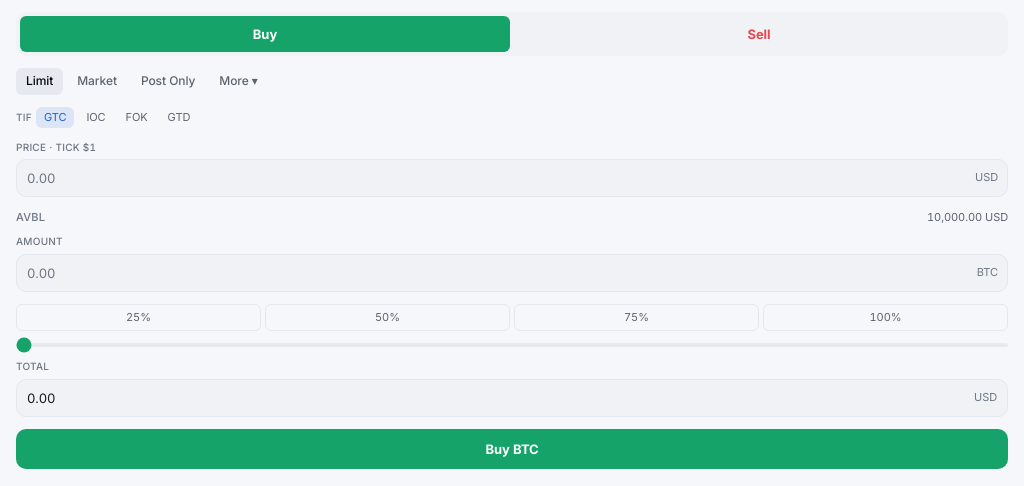
Test case: OrderForm % sizing › sell sizes pct% of the base balance (no price involved)
Click the button "Sell": point(759, 34) [514, 16, 1004, 52]
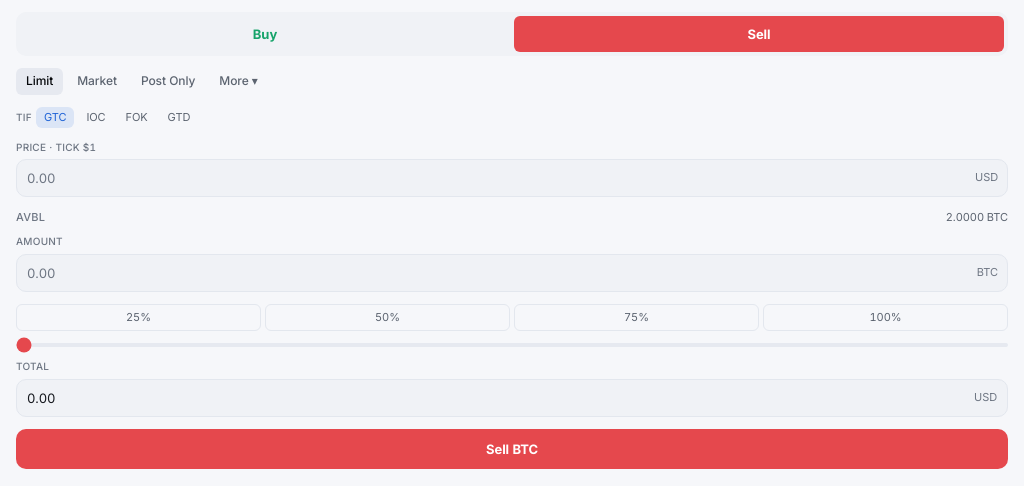
Click the button "50%": point(388, 318) [265, 304, 510, 331]
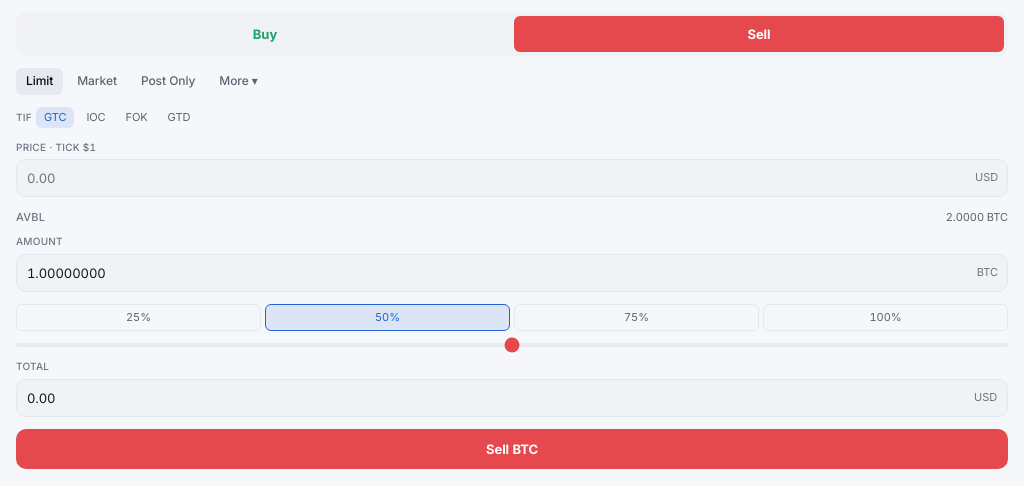
Expected: the 2nd number field holds "1.00000000", [16, 254, 1008, 292]
